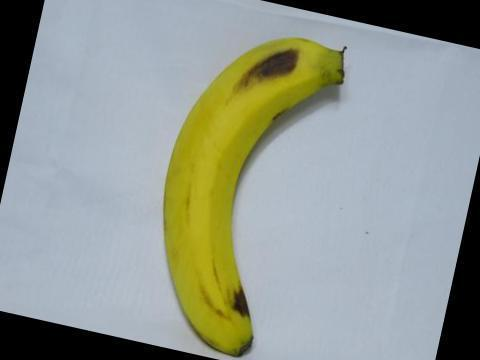freshripe: (149, 24, 363, 359)
